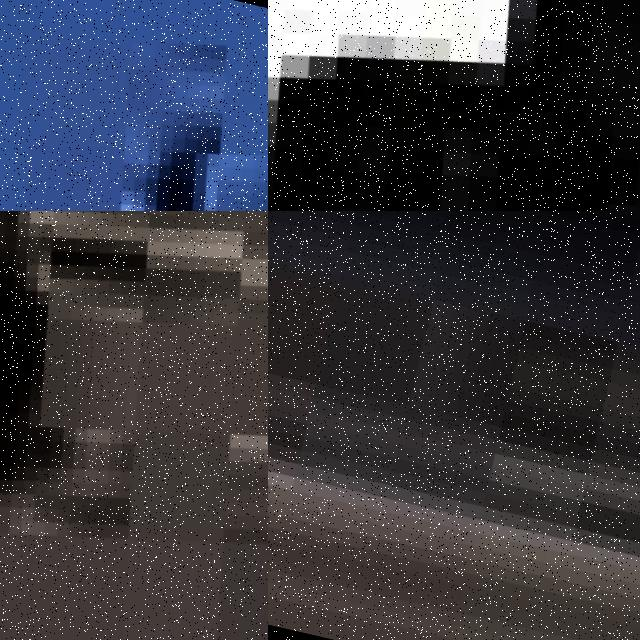drone: (0, 211, 268, 640), (268, 0, 640, 211), (0, 0, 268, 211)
